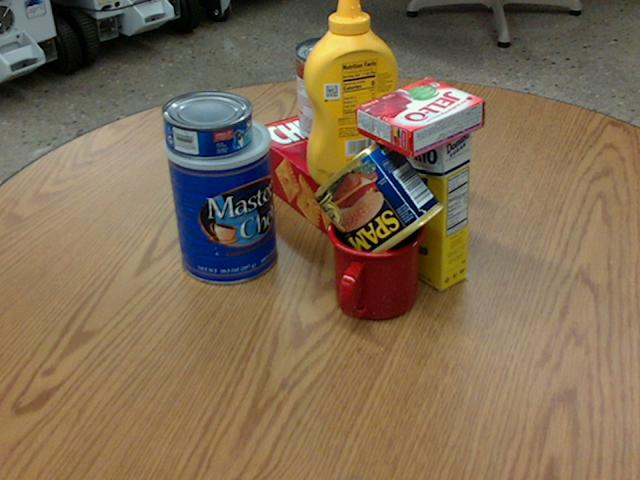cracker_box: (247, 96, 465, 252)
gelatin_box: (356, 77, 484, 157)
large_marker: (226, 112, 249, 213)
master_chef_can: (163, 113, 278, 283)
mug: (325, 205, 424, 322)
mustard_bottle: (304, 0, 398, 185)
potted_meat_can: (312, 136, 445, 267)
sugar_box: (376, 93, 471, 293)
tomato_soup_can: (294, 36, 354, 142)
tuna_fish_can: (160, 89, 252, 157)
